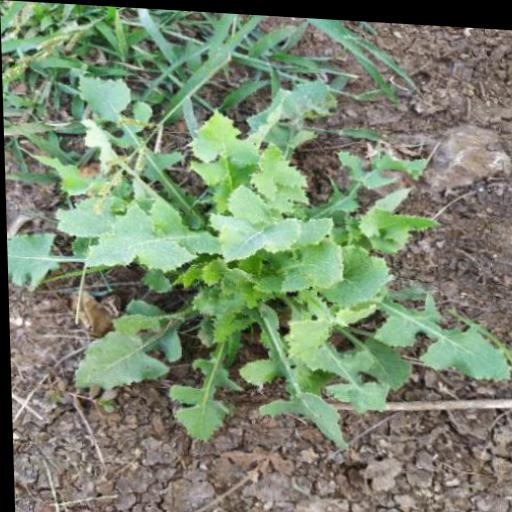weed: (12, 65, 512, 444)
